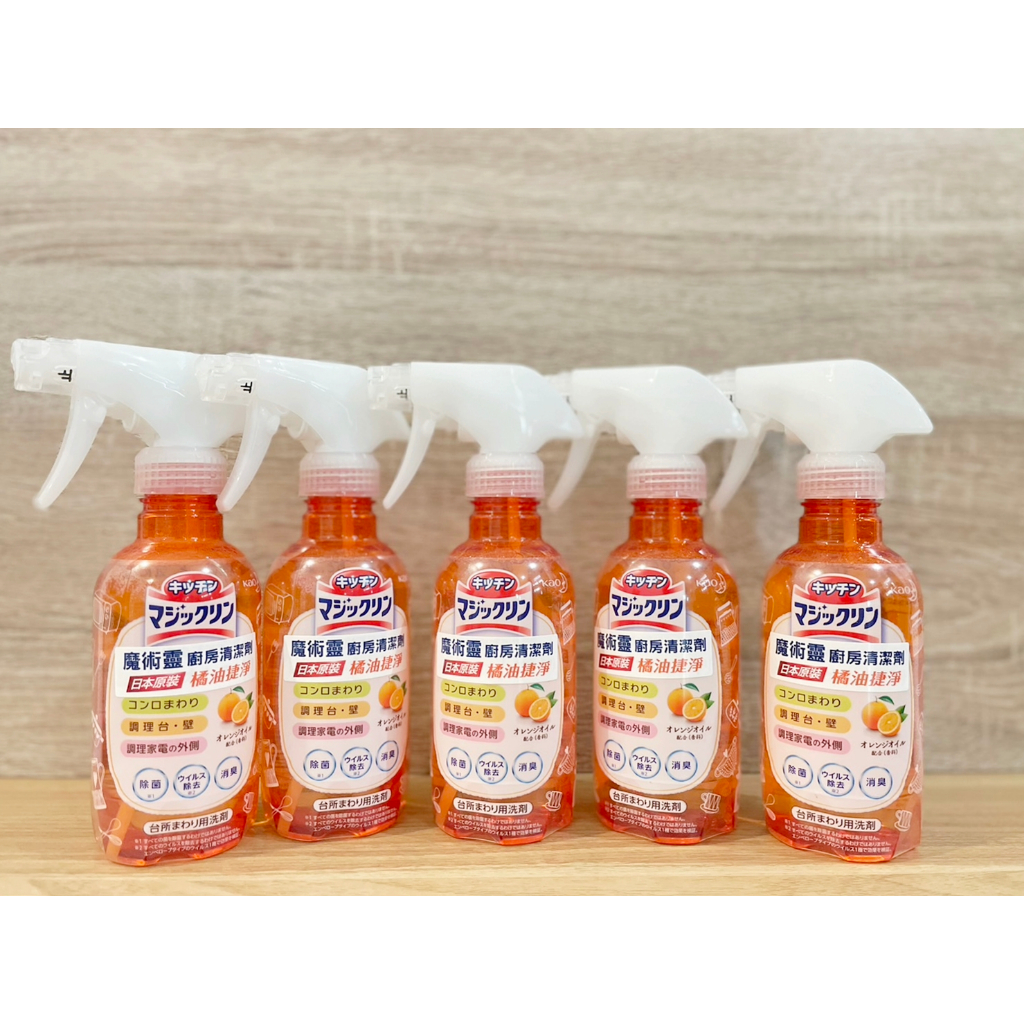cleaner: (5, 322, 264, 867), (663, 354, 932, 865), (195, 338, 441, 851), (521, 354, 768, 850), (366, 353, 596, 842)
